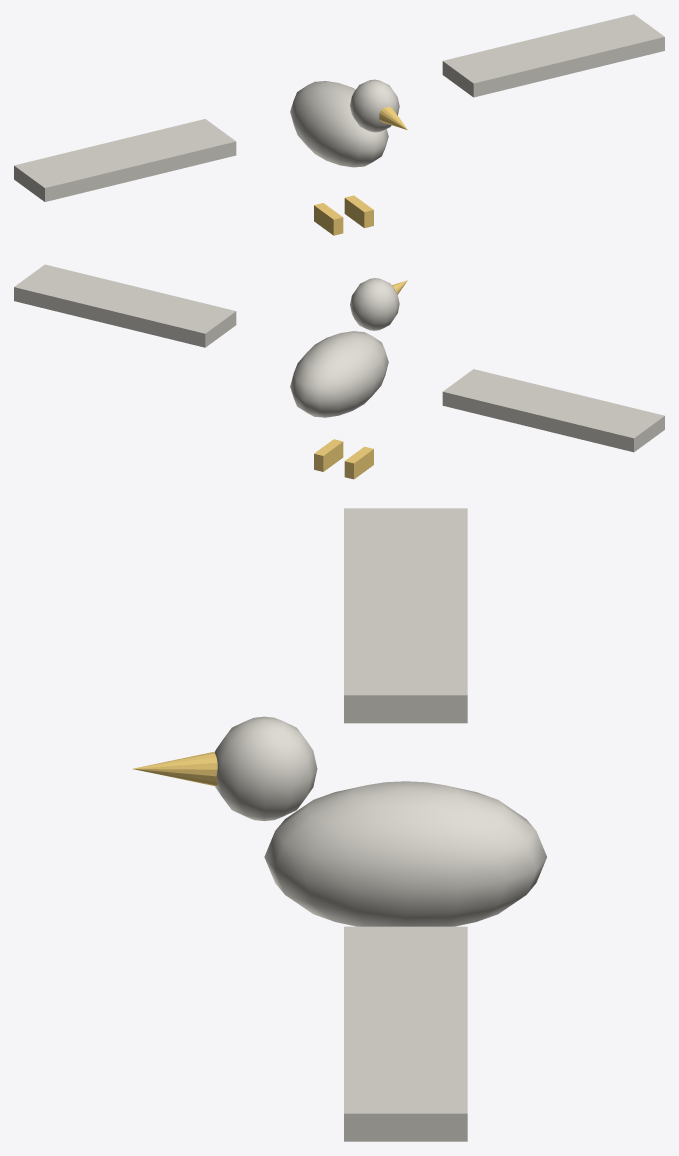
The model's file is Seagull_blockout.glb.
3 renders of one model, top to bottom at view 1: azimuth 30°, elevation 25°; view 2: azimuth 150°, elevation 25°; view 3: azimuth 270°, elevation 25°, orthographic. The views are drawn at different scales.
Parts seen in each view (by area): view 1: CHR04_Seagull_WingL_L0, CHR04_Seagull_WingR_L0, CHR04_Seagull_Body_L0, CHR04_Seagull_Head_L0, CHR04_Seagull_FootL_L0, CHR04_Seagull_FootR_L0, CHR04_Seagull_Beak_L0; view 2: CHR04_Seagull_WingL_L0, CHR04_Seagull_WingR_L0, CHR04_Seagull_Body_L0, CHR04_Seagull_Head_L0, CHR04_Seagull_FootL_L0, CHR04_Seagull_FootR_L0; view 3: CHR04_Seagull_Body_L0, CHR04_Seagull_WingL_L0, CHR04_Seagull_WingR_L0, CHR04_Seagull_Head_L0, CHR04_Seagull_Beak_L0.
Part boxes in pixels (x1=…): CHR04_Seagull_WingL_L0: x1=442, y1=14, x2=664, y2=97; CHR04_Seagull_WingR_L0: x1=14, y1=119, x2=236, y2=201; CHR04_Seagull_Body_L0: x1=290, y1=81, x2=388, y2=167; CHR04_Seagull_Head_L0: x1=350, y1=79, x2=399, y2=132; CHR04_Seagull_FootL_L0: x1=344, y1=195, x2=373, y2=228; CHR04_Seagull_FootR_L0: x1=314, y1=203, x2=343, y2=235; CHR04_Seagull_Beak_L0: x1=379, y1=106, x2=407, y2=129; CHR04_Seagull_WingL_L0: x1=14, y1=264, x2=236, y2=347; CHR04_Seagull_WingR_L0: x1=442, y1=369, x2=664, y2=452; CHR04_Seagull_Body_L0: x1=290, y1=331, x2=388, y2=417; CHR04_Seagull_Head_L0: x1=350, y1=278, x2=399, y2=330; CHR04_Seagull_FootL_L0: x1=314, y1=439, x2=343, y2=471; CHR04_Seagull_FootR_L0: x1=344, y1=446, x2=373, y2=479; CHR04_Seagull_Body_L0: x1=264, y1=781, x2=546, y2=926; CHR04_Seagull_WingL_L0: x1=344, y1=926, x2=467, y2=1141; CHR04_Seagull_WingR_L0: x1=344, y1=508, x2=467, y2=723; CHR04_Seagull_Head_L0: x1=215, y1=716, x2=317, y2=821; CHR04_Seagull_Beak_L0: x1=132, y1=751, x2=217, y2=786.
Bounding box in the file's own units: 1.62 × 0.41 × 0.47.
